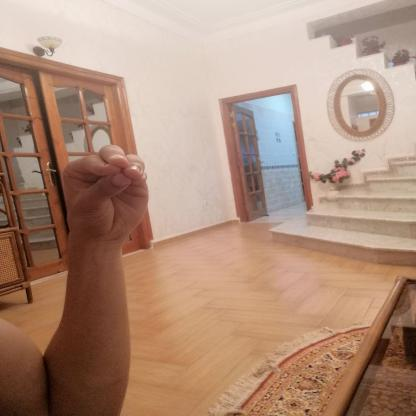HA: (43, 129, 169, 253)
